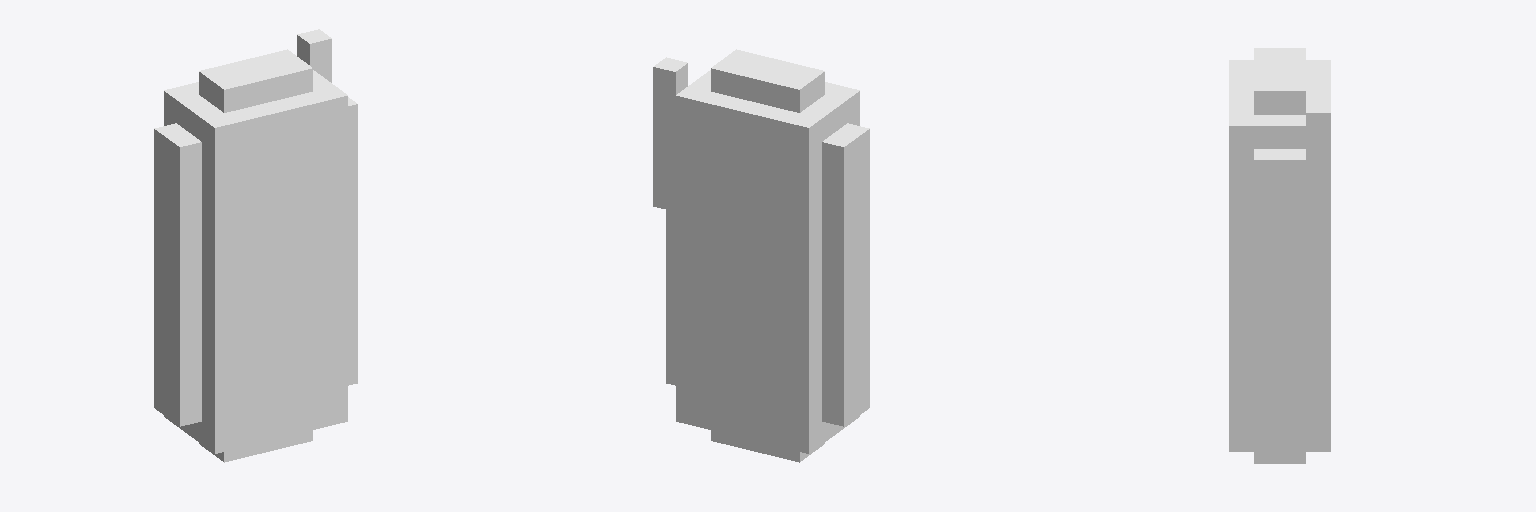
The model's file is item_radio.obj.
3 views of the same model, side by side, from view 1: azimuth 30°, elevation 25°; view 2: azimuth 150°, elevation 25°; view 3: azimuth 270°, elevation 25° (orthographic).
Bounding box in the file's own units: 8 × 16 × 4.